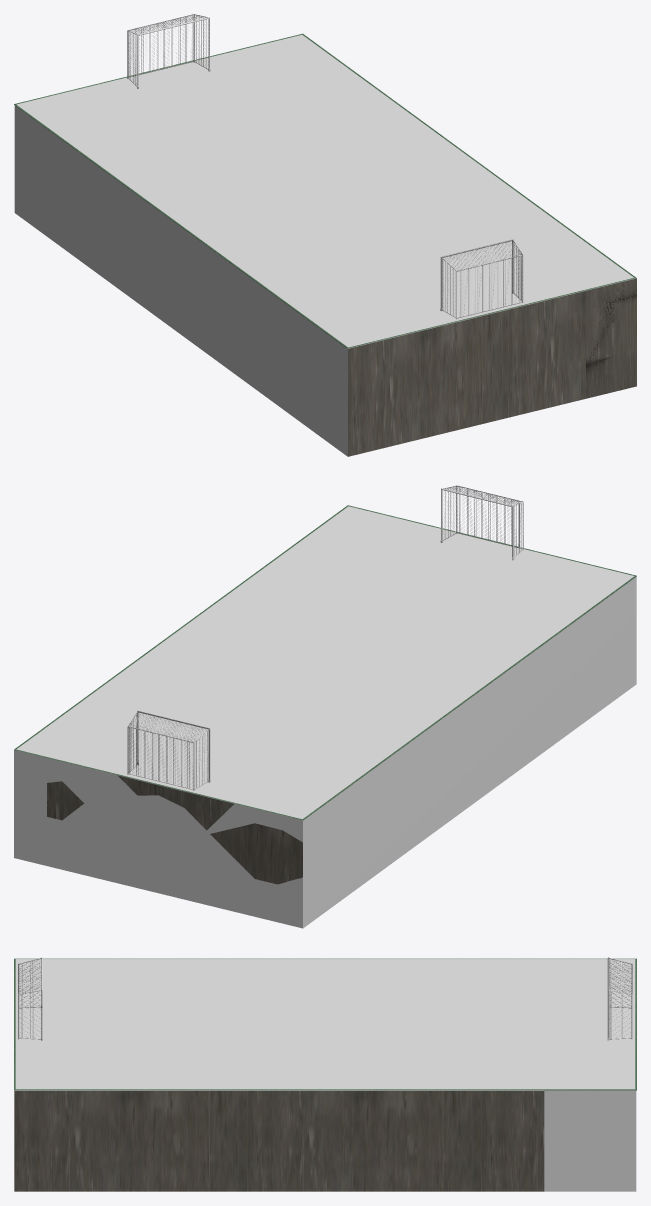
Rendered from campinho.fbx.
3 views of the same model, one above another, from view 1: azimuth 30°, elevation 25°; view 2: azimuth 150°, elevation 25°; view 3: azimuth 270°, elevation 25° (orthographic). The views are drawn at different scales.
Visible parts, largest first — view 1: UTM_Geometry, Object_LOD0; view 2: UTM_Geometry, Object_LOD0; view 3: UTM_Geometry, Object_LOD0.
Boxes of the visible parts, box(x1,y1,x2,y2) form: UTM_Geometry: box(14, 15, 636, 456); Object_LOD0: box(14, 14, 636, 456); UTM_Geometry: box(14, 486, 636, 928); Object_LOD0: box(14, 485, 636, 884); UTM_Geometry: box(14, 957, 636, 1191); Object_LOD0: box(14, 957, 636, 1191).
Size of the model in its own units: 1290 by 693 by 2576.
